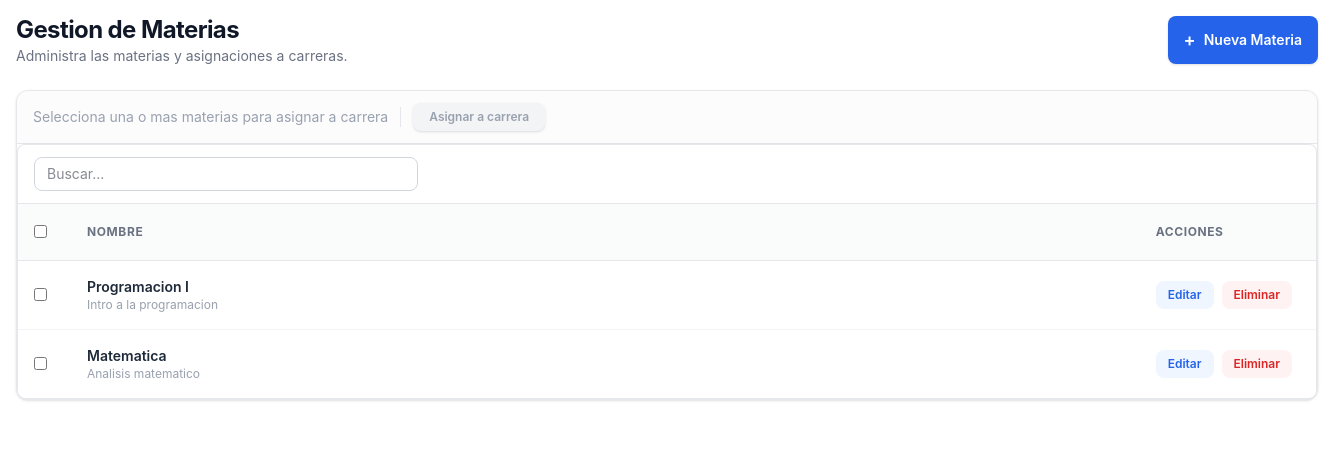
Test: AdminMateriasPage › muestra mensaje de error si falla la eliminacion
Step 1. Click the button "Eliminar" in the row of "Programacion I" → (1257, 295), box [1222, 281, 1292, 309]
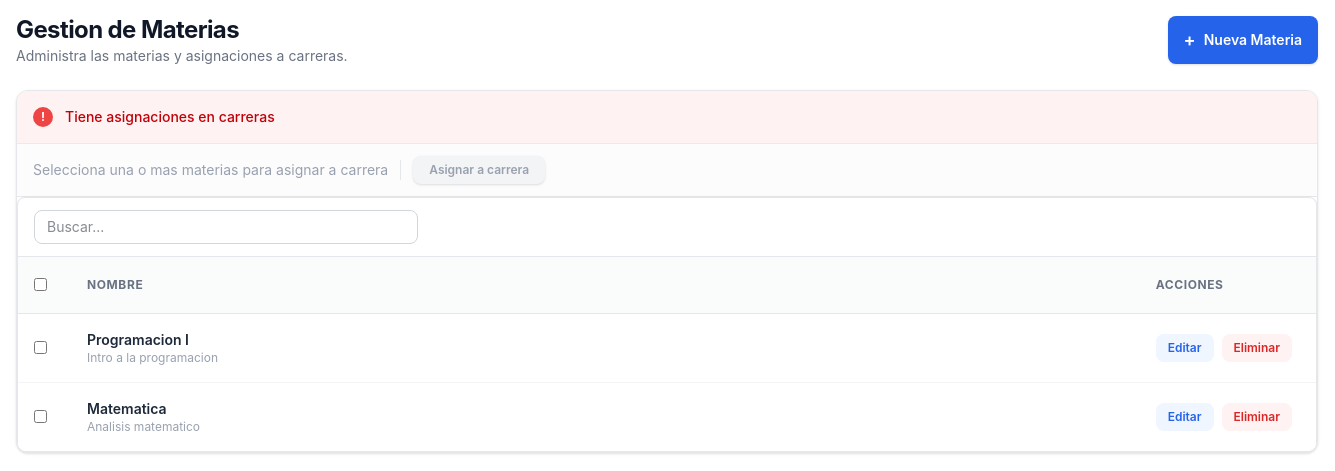
Expected: the text "Tiene asignaciones en carreras" is shown, [65, 107, 275, 127]
